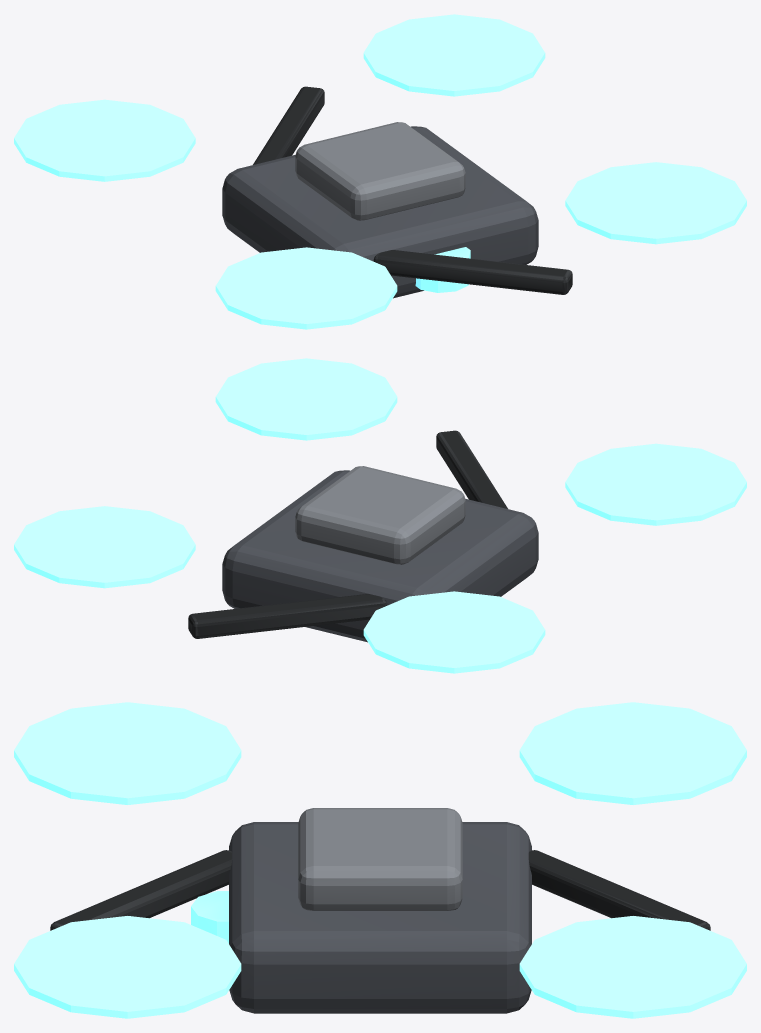
The model's file is recon_drone.glb.
3 views of the same model, one above another, from view 1: azimuth 30°, elevation 25°; view 2: azimuth 150°, elevation 25°; view 3: azimuth 270°, elevation 25° (orthographic). The views are drawn at different scales.
Visible parts, largest first — view 1: recon_drone, rotor0, rotor3, rotor1, rotor2; view 2: recon_drone, rotor1, rotor2, rotor0, rotor3; view 3: recon_drone, rotor0, rotor1, rotor2, rotor3.
Boxes of the visible parts, box(x1,y1,x2,y2) form: recon_drone: box(222, 86, 572, 298); rotor0: box(363, 14, 545, 96); rotor3: box(215, 247, 397, 329); rotor1: box(14, 99, 195, 181); rotor2: box(565, 162, 746, 244); recon_drone: box(188, 430, 538, 642); rotor1: box(363, 591, 545, 673); rotor2: box(215, 358, 397, 440); rotor0: box(14, 506, 195, 588); rotor3: box(565, 443, 746, 525); recon_drone: box(50, 808, 710, 1013); rotor0: box(519, 916, 746, 1018); rotor1: box(519, 702, 746, 804); rotor2: box(14, 916, 241, 1018); rotor3: box(14, 702, 241, 804).
Bounding box in the file's own units: 0.58 × 0.105 × 0.58.
